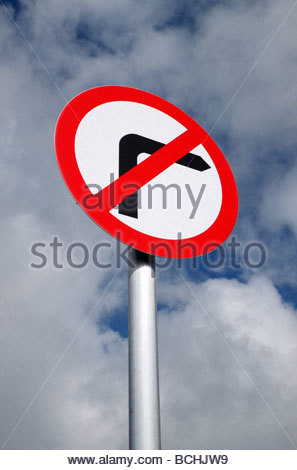No_right_turn: (54, 83, 238, 259)
